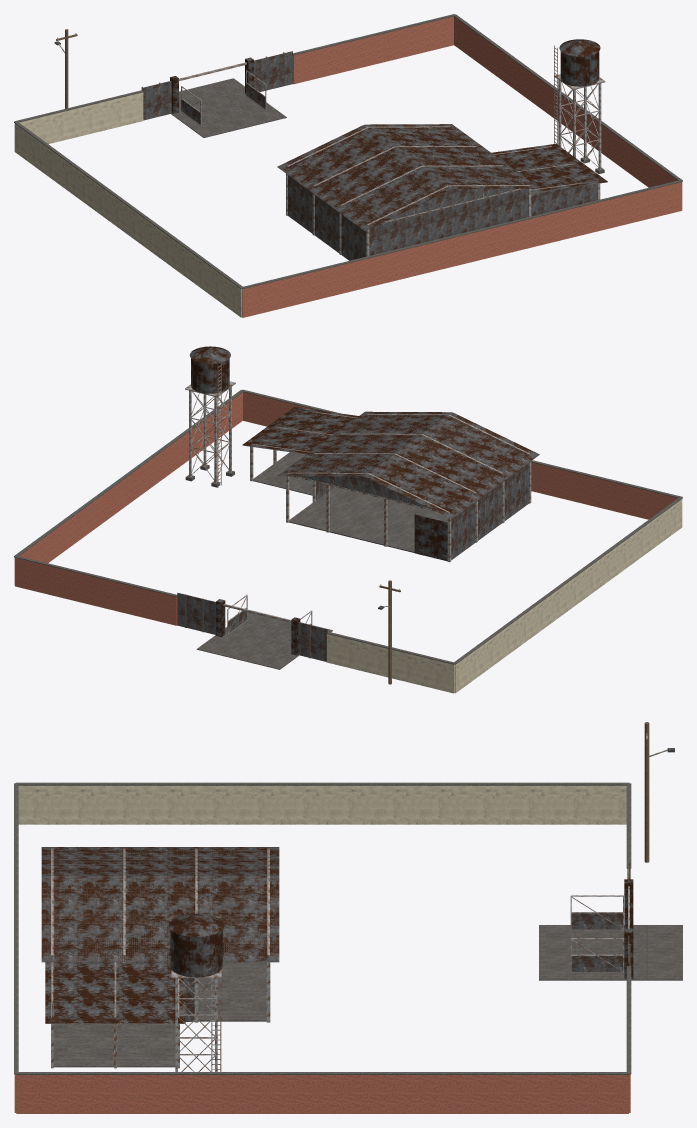
Rendered from deposito.glb.
3 views of the same model, one above another, from view 1: azimuth 30°, elevation 25°; view 2: azimuth 150°, elevation 25°; view 3: azimuth 270°, elevation 25° (orthographic). The views are drawn at different scales.
Parts seen in each view (by area): view 1: tijolo, zinco_ferrugem, zinco_velho, muro_reboco, ferro_velho, cimento, concreto_rachado; view 2: zinco_ferrugem, tijolo, zinco_velho, muro_reboco, concreto_rachado, ferro_velho, cimento; view 3: zinco_ferrugem, muro_reboco, tijolo, zinco_velho, concreto_rachado, cimento, ferro_velho, poste_madeira.
Boxes of the visible parts, left/top/right/bottom form: tijolo: left=242, top=16, right=682, bottom=317; zinco_ferrugem: left=170, top=39, right=607, bottom=230; zinco_velho: left=142, top=51, right=607, bottom=260; muro_reboco: left=14, top=92, right=242, bottom=317; ferro_velho: left=58, top=42, right=605, bottom=256; cimento: left=14, top=14, right=682, bottom=288; concreto_rachado: left=170, top=78, right=604, bottom=194; zinco_ferrugem: left=189, top=346, right=539, bottom=655; tijolo: left=14, top=392, right=677, bottom=625; zinco_velho: left=177, top=408, right=538, bottom=661; muro_reboco: left=327, top=499, right=682, bottom=693; concreto_rachado: left=185, top=452, right=447, bottom=669; ferro_velho: left=185, top=363, right=531, bottom=634; cimento: left=14, top=389, right=682, bottom=664; zinco_ferrugem: left=41, top=847, right=633, bottom=1023; muro_reboco: left=18, top=785, right=628, bottom=879; tijolo: left=14, top=1074, right=630, bottom=1113; zinco_velho: left=41, top=847, right=629, bottom=1023; concreto_rachado: left=53, top=925, right=682, bottom=1067; cimento: left=14, top=782, right=631, bottom=1074; ferro_velho: left=50, top=748, right=670, bottom=1071; poste_madeira: left=644, top=722, right=649, bottom=862.
Size of the model in its own units: 38.26 by 10.7 by 37.13.
11 materials, 9 textured.
